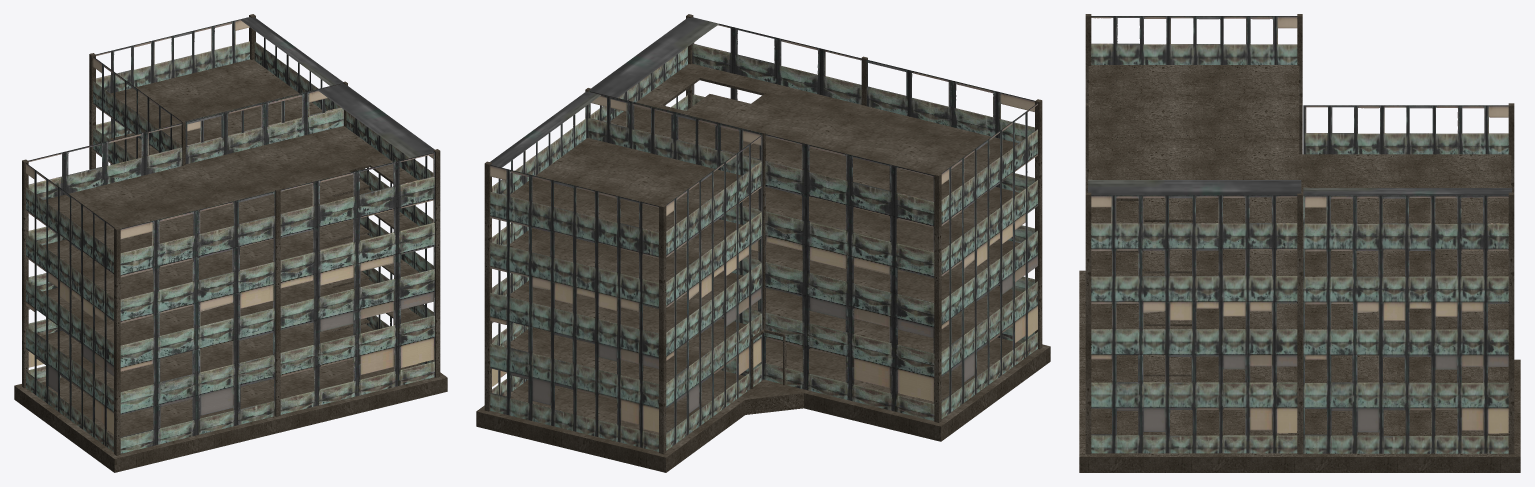
The model's file is BagSS09base_300.fbx.
3 renders of one model, left to right at view 1: azimuth 30°, elevation 25°; view 2: azimuth 150°, elevation 25°; view 3: azimuth 270°, elevation 25°, orthographic. The views are drawn at different scales.
Parts seen in each view (by area): view 1: baseBox300, baseCrete300; view 2: baseBox300, baseCrete300; view 3: baseCrete300, baseBox300.
Boxes of the visible parts, x1,y1,x2,y2 form: baseBox300: [26, 17, 434, 453]; baseCrete300: [14, 14, 447, 472]; baseBox300: [490, 17, 1037, 451]; baseCrete300: [476, 14, 1050, 472]; baseCrete300: [1079, 14, 1520, 472]; baseBox300: [1088, 16, 1511, 453].
Bounding box in the file's own units: 42.12 × 28.99 × 42.12.
